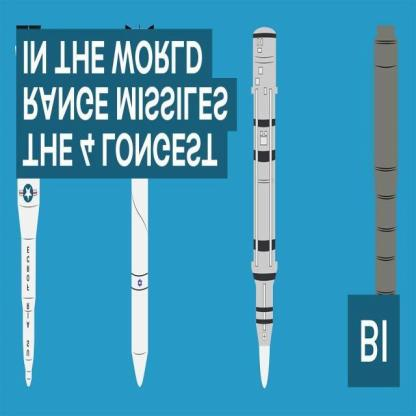MIL_TBM: (247, 19, 283, 398), (12, 175, 47, 393), (130, 172, 152, 397)
